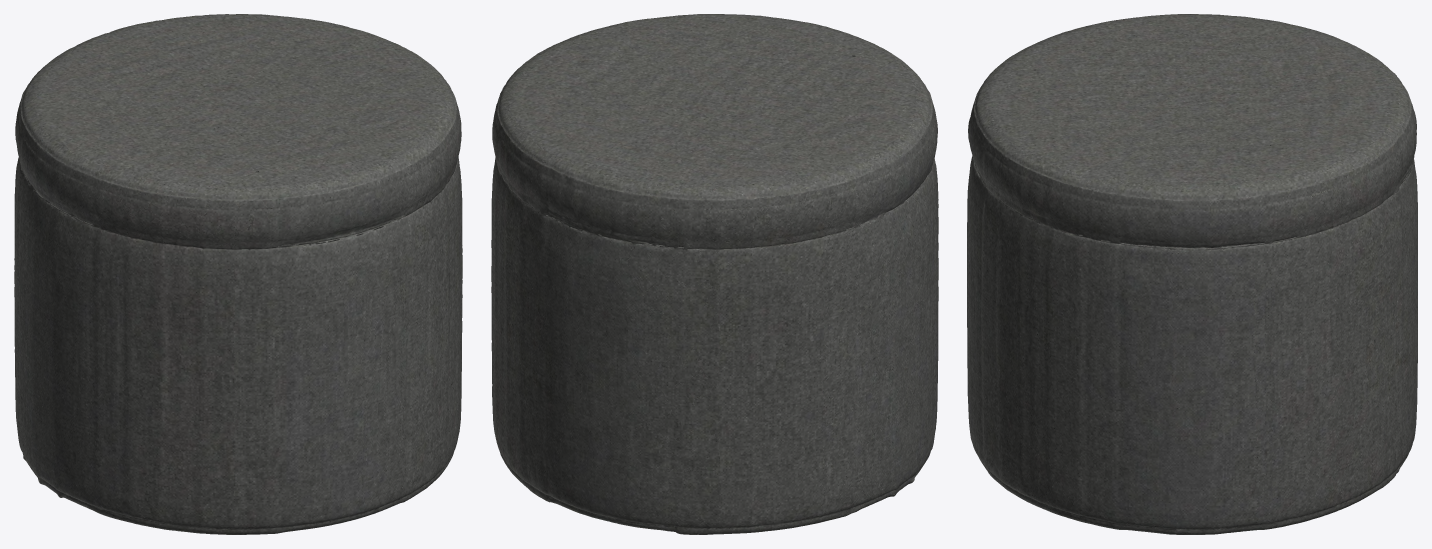
The model's file is B0714QGLVP.glb.
3 renders of one model, left to right at view 1: azimuth 30°, elevation 25°; view 2: azimuth 150°, elevation 25°; view 3: azimuth 270°, elevation 25°, orthographic.
Visible parts, largest first — view 1: geometry_0; view 2: geometry_0; view 3: geometry_0.
Boxes of the visible parts, x1,y1,x2,y2 form: geometry_0: [14, 14, 462, 534]; geometry_0: [491, 14, 938, 534]; geometry_0: [967, 14, 1417, 534].
Size of the model in its own units: 0.9212 by 0.8128 by 0.919.
1 material, 1 textured.
